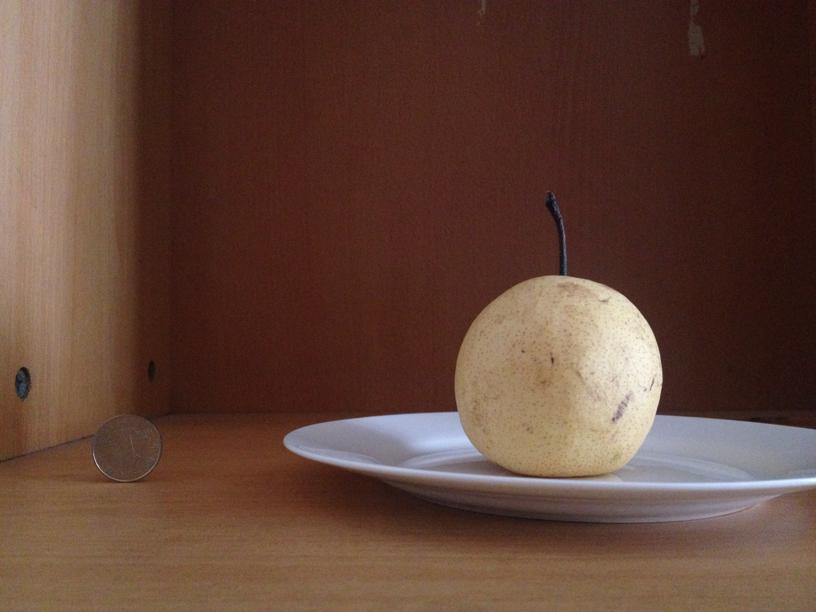coin: (91, 411, 163, 482)
pear: (455, 277, 667, 478)
